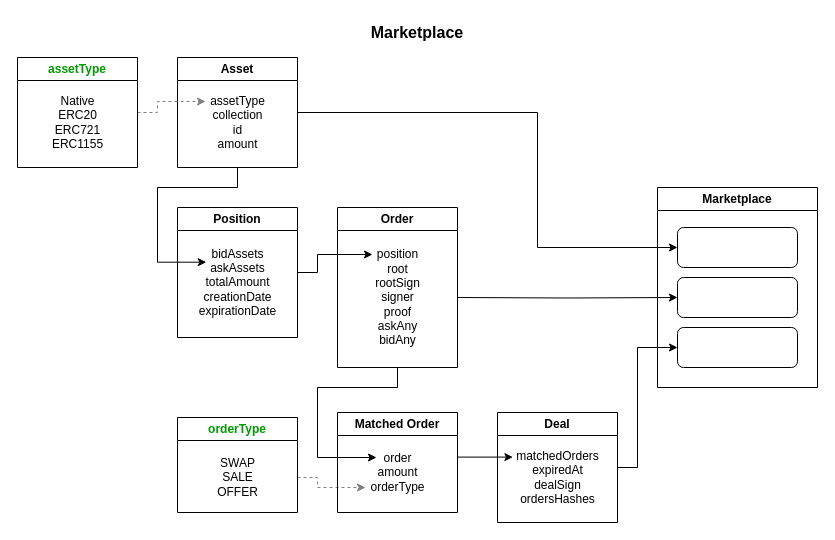
Some shapes in this 835 by 540 pixel diagram are drawn without their labels. The shapes that lost their labels are listed below. From the top down, each one's centre as x and y in pixels, then its label:
At (737,247): "getRoyalties".
At (737,297): "cancel".
At (737,347): "buy".
